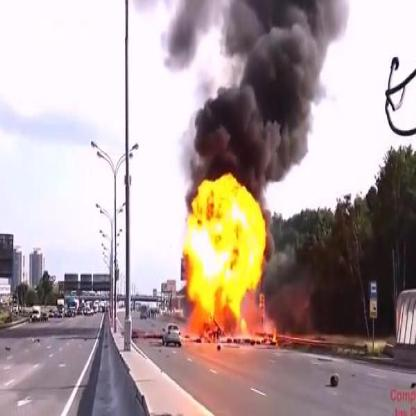fire: (179, 168, 269, 348), (272, 324, 279, 346)
